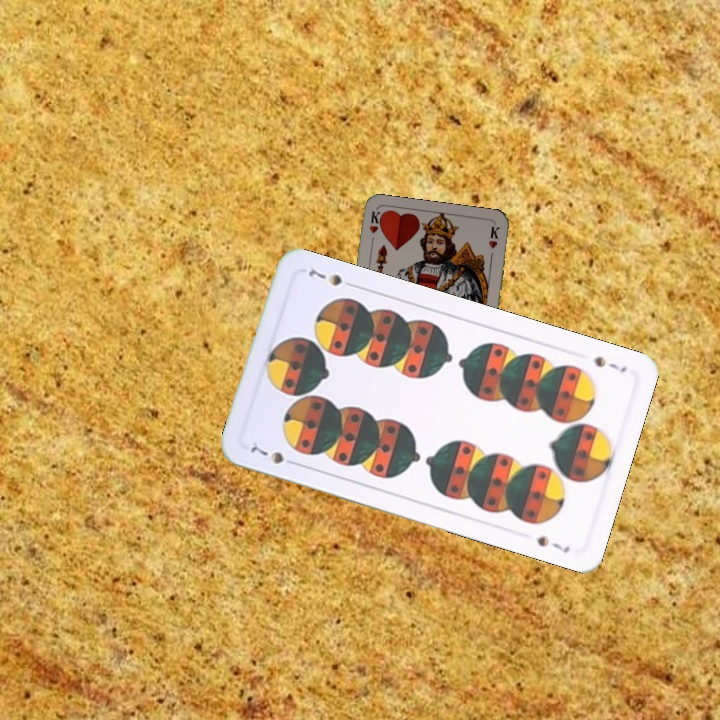HK: (365, 208, 385, 249)
S7: (246, 442, 301, 469), (589, 352, 629, 375)
